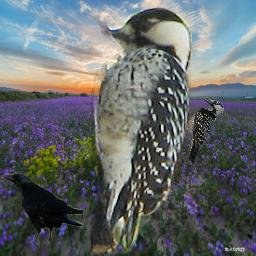Crow: (1, 172, 84, 248)
Woodpecker: (91, 6, 192, 254), (182, 97, 224, 165)
